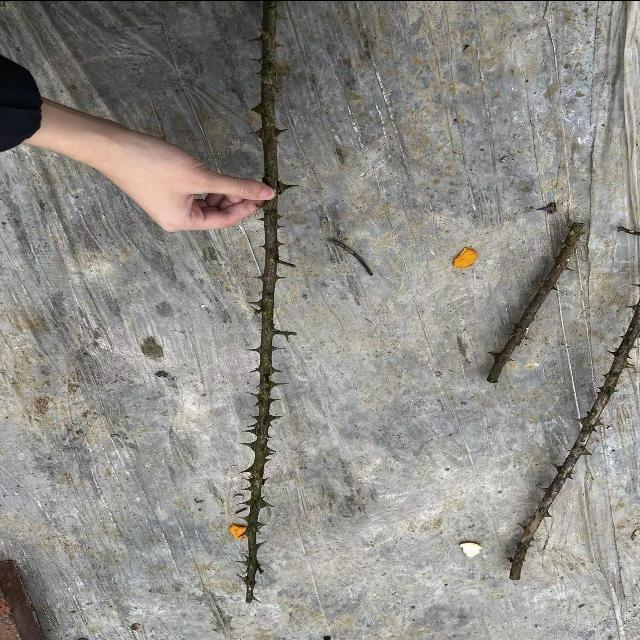branch: (509, 304, 640, 578), (232, 0, 286, 599)
